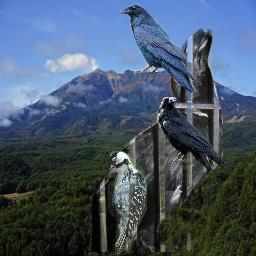Crow: (92, 29, 223, 252), (118, 3, 201, 93), (157, 96, 235, 170)
Woodpecker: (108, 151, 147, 256)
